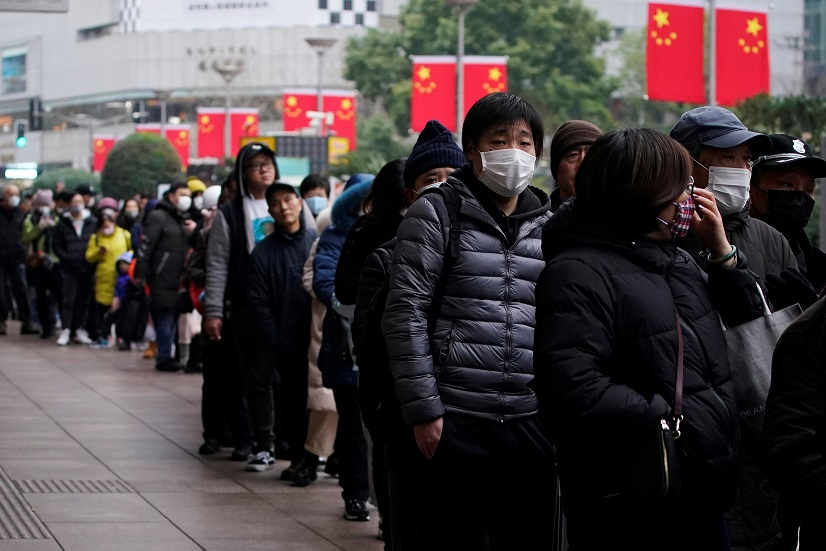with_mask: (471, 130, 538, 193), (696, 146, 755, 211), (761, 162, 814, 228)
without_mask: (273, 190, 298, 227), (247, 158, 272, 189)
